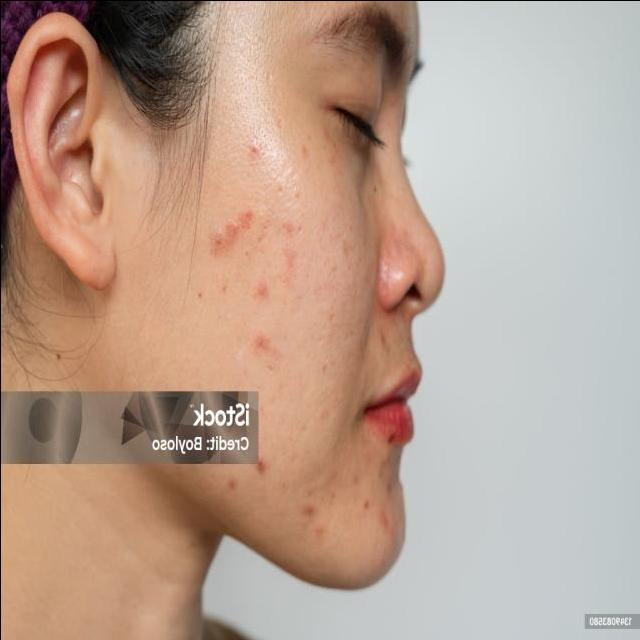papule: (207, 202, 264, 259), (277, 214, 305, 297), (249, 450, 273, 482), (308, 517, 333, 547), (249, 326, 270, 358), (293, 499, 317, 526), (245, 134, 263, 168), (375, 508, 396, 536), (221, 472, 244, 495), (250, 272, 266, 297), (298, 141, 313, 166)
